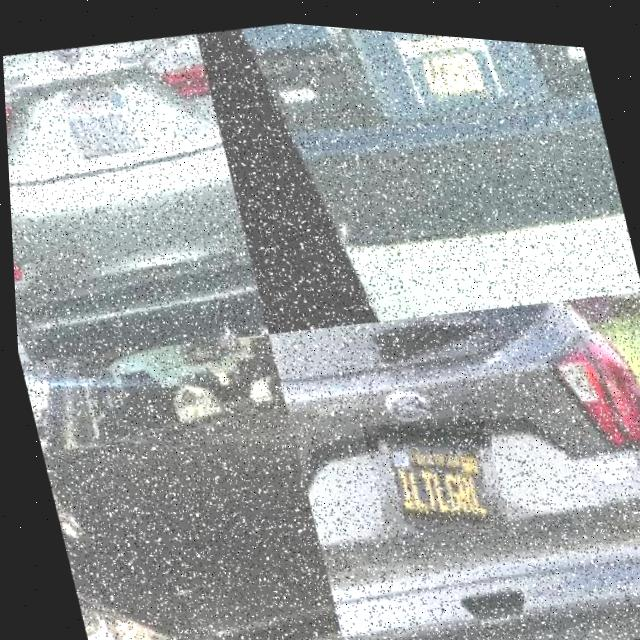LicensePlate: (357, 397, 505, 542), (381, 24, 513, 128), (46, 66, 142, 164)
